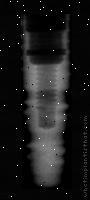DENTSPLY: (22, 15, 72, 189)
